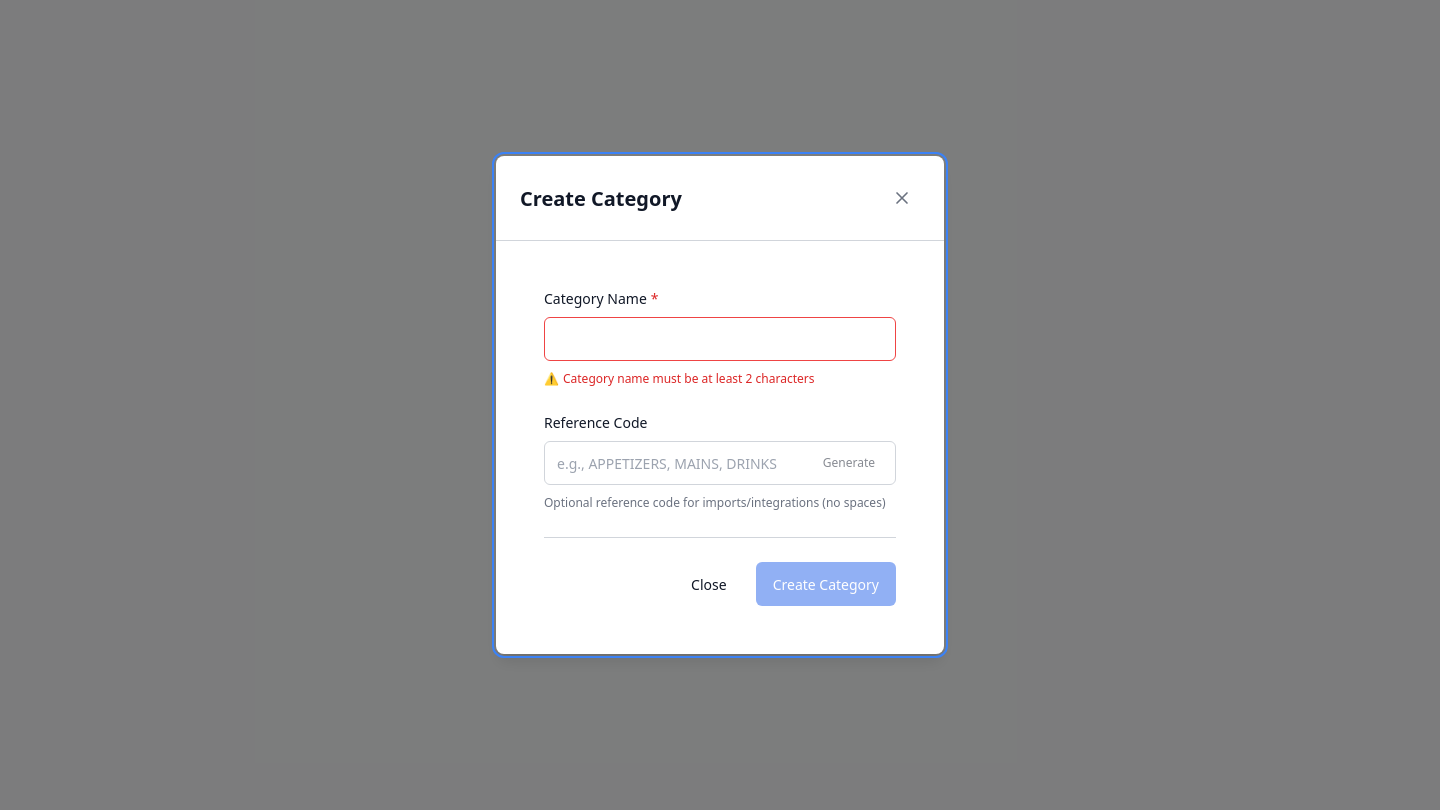
CategoryCreateModal › should generate category reference when Generate button is clicked
In the field labelled "Category Name": (720, 339) [544, 317, 896, 361], type "Side Dishes"
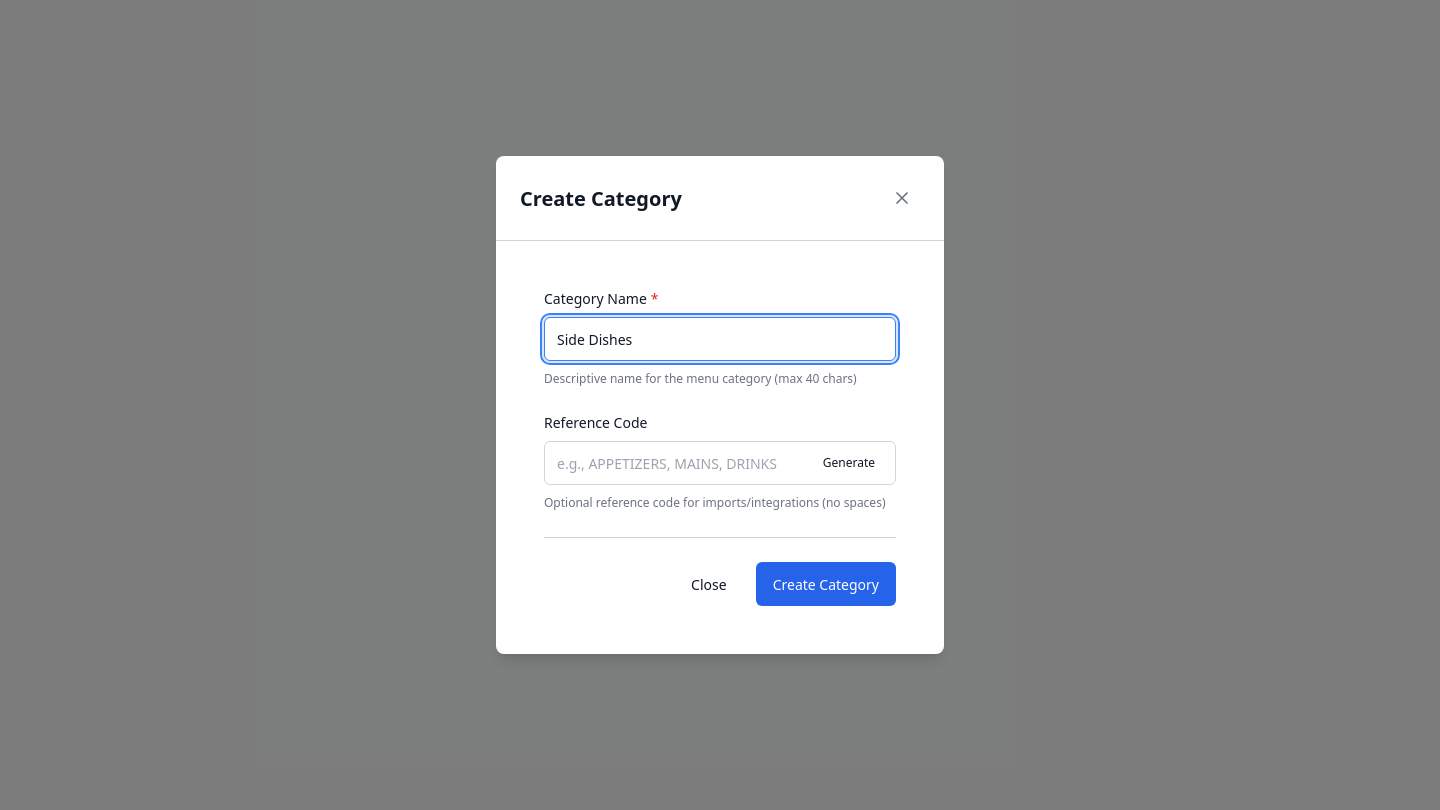
Click the button "Generate": click(849, 463) [810, 447, 888, 479]
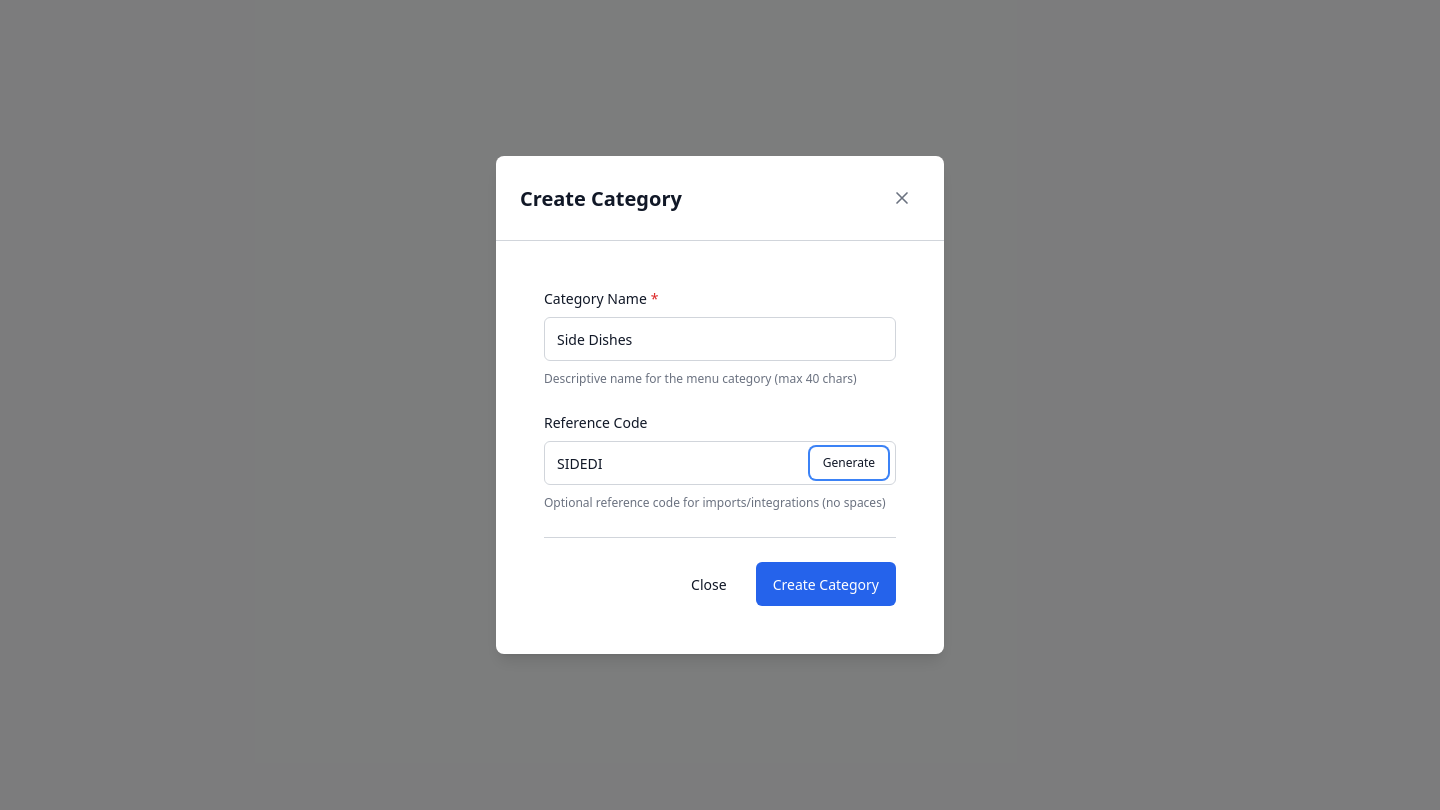
Expected: the field labelled "Reference Code" is not empty, [544, 441, 896, 485]
